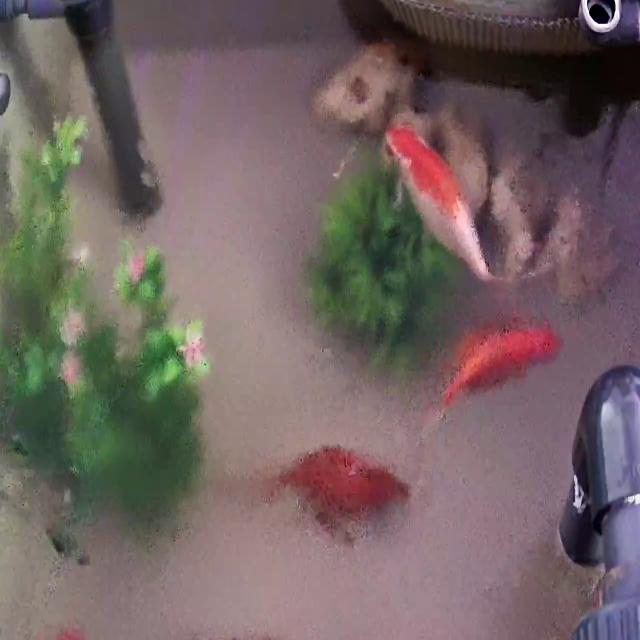fish: (381, 122, 495, 286), (433, 321, 561, 428), (266, 448, 396, 534)
